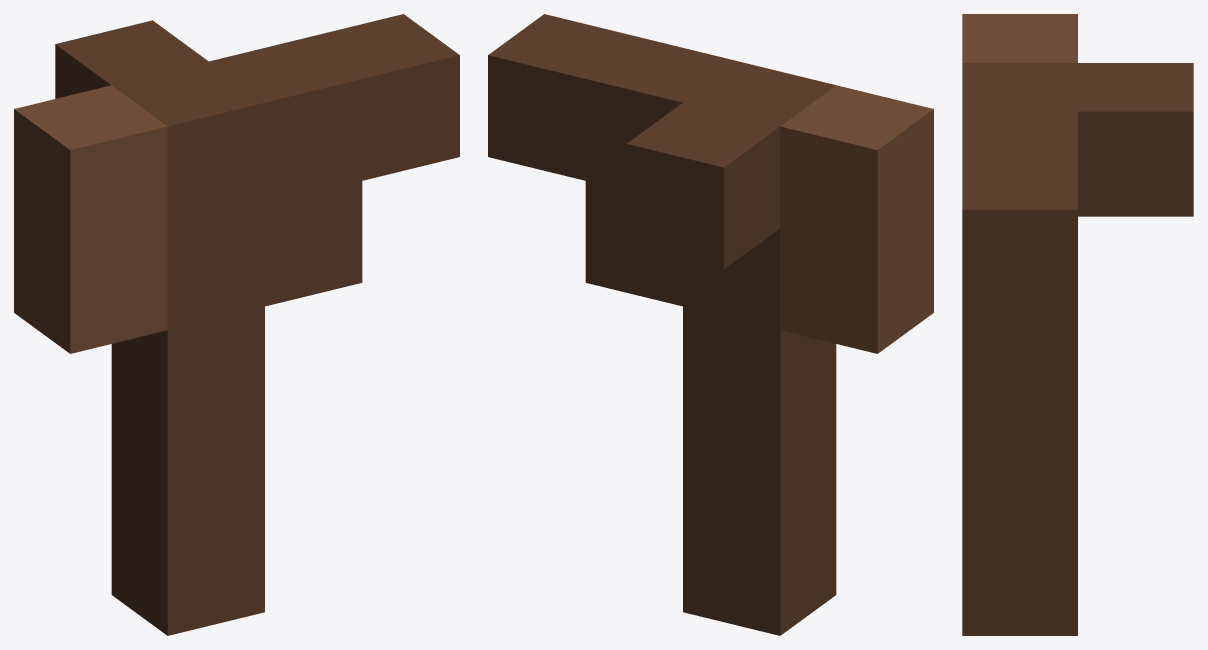
The model's file is apple_sapling_winter.glb.
3 renders of one model, left to right at view 1: azimuth 30°, elevation 25°; view 2: azimuth 150°, elevation 25°; view 3: azimuth 270°, elevation 25°, orthographic. The views are drawn at different scales.
Visible parts, largest first — view 1: apple_sapling_winter; view 2: apple_sapling_winter; view 3: apple_sapling_winter.
Part boxes in pixels (x1,y1,x2,y2): apple_sapling_winter: [14, 14, 459, 635]; apple_sapling_winter: [488, 14, 933, 635]; apple_sapling_winter: [962, 14, 1193, 635].
Size of the model in its own units: 4 by 5 by 2.
